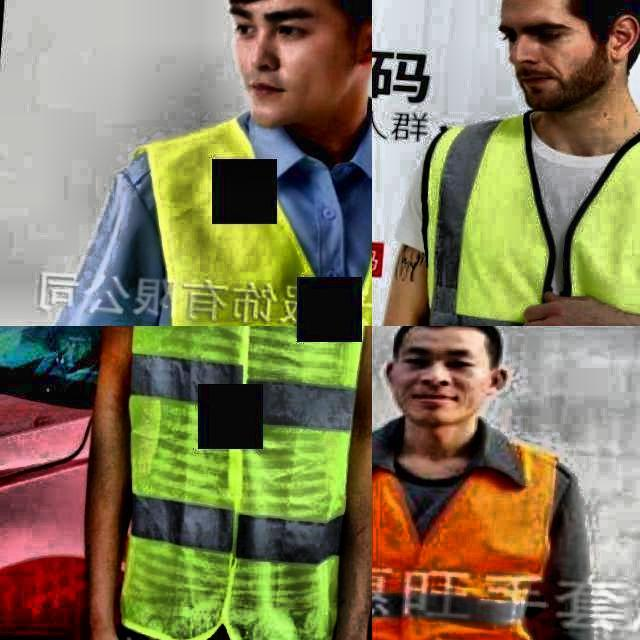safety_jacket: (106, 326, 372, 640), (121, 106, 372, 326), (400, 102, 640, 326), (372, 421, 564, 640)
